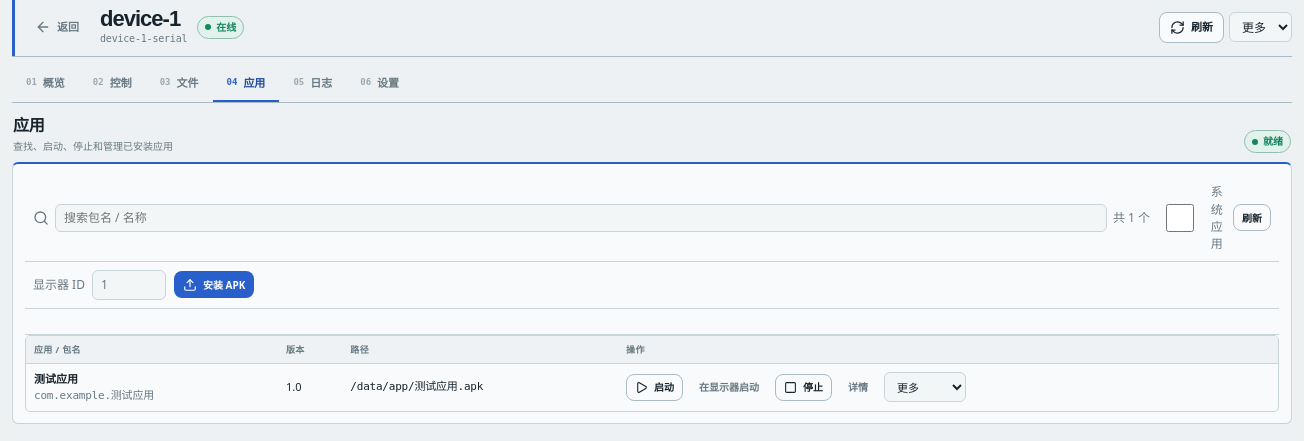
it: DeviceDetail refresh ordering › does not show an older app detail after the device refreshes
Click the button "详情": (858, 387) [839,374,877,401]
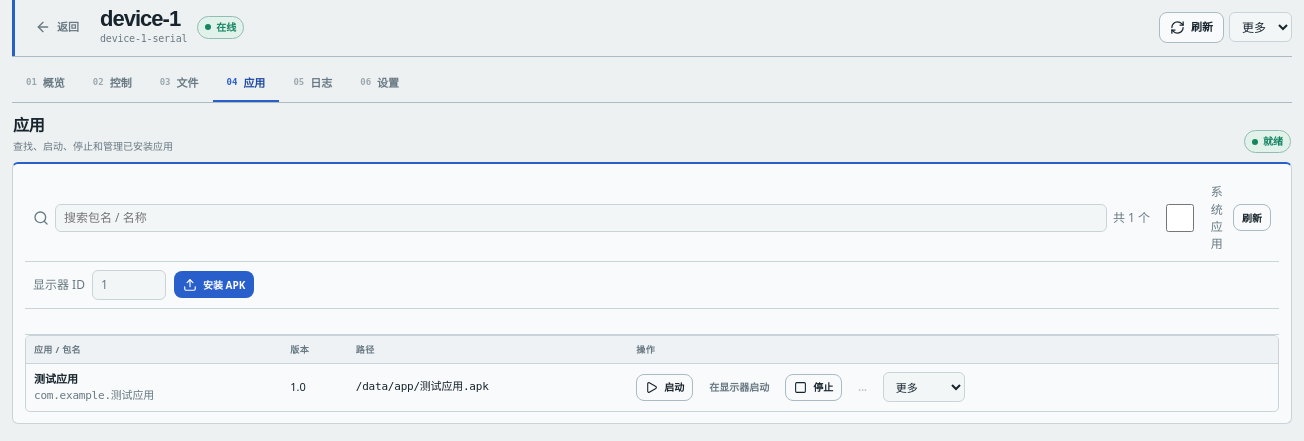
Click the button "刷新" in the row of "在线": (1192, 27) [1159,12,1224,43]
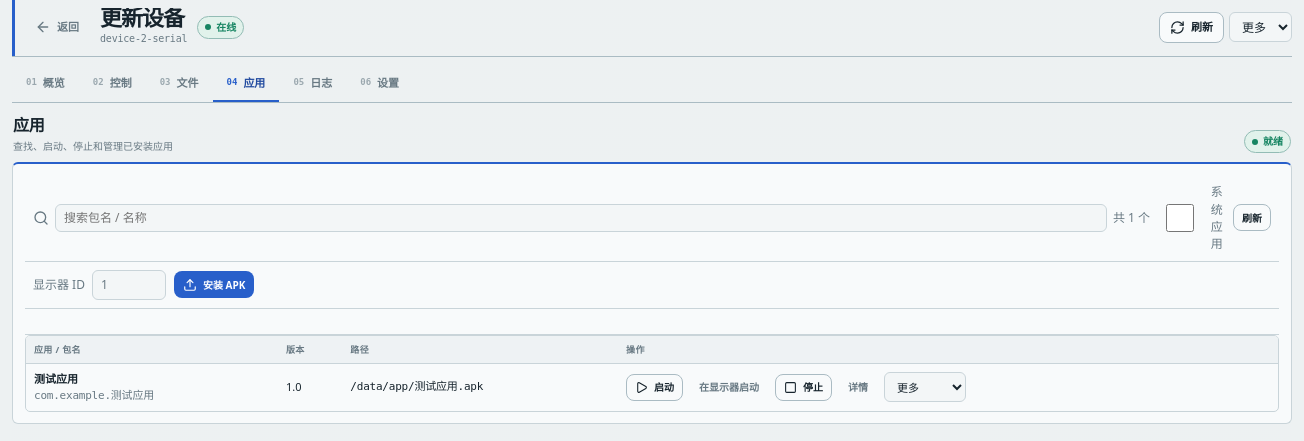
Now the text "更新设备" is shown, box [100,8,187,30]
